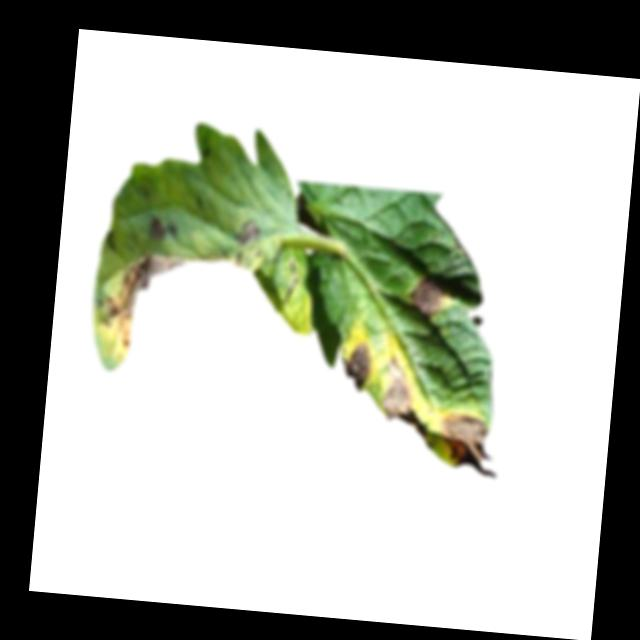Early_blight: (94, 247, 189, 361), (433, 413, 500, 481), (379, 355, 430, 440), (342, 338, 374, 394), (410, 278, 446, 316), (145, 215, 178, 242), (237, 220, 260, 246)
